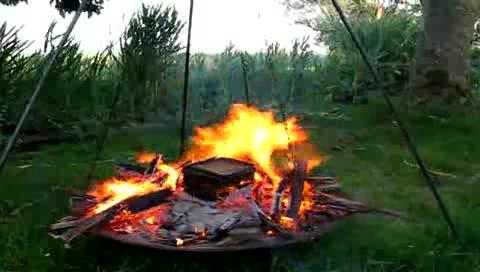fire: (197, 97, 305, 162), (102, 154, 182, 205)
